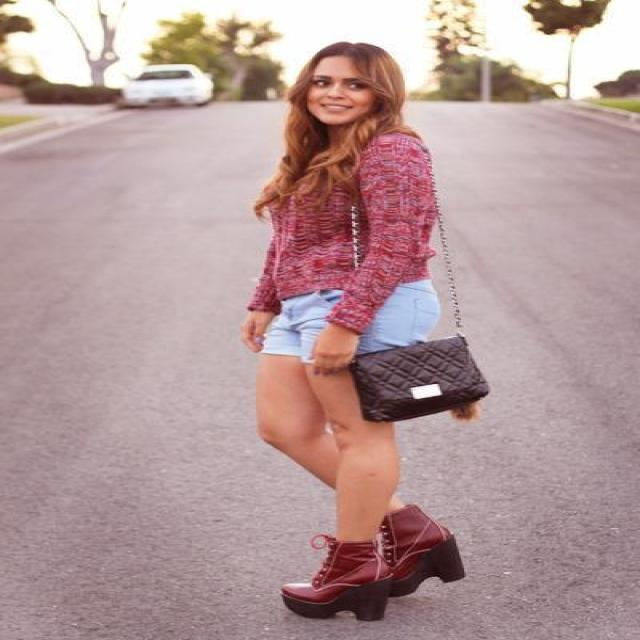bag: (341, 333, 488, 421)
shirt: (250, 115, 440, 335)
shoe: (282, 504, 464, 621)
shorts: (262, 280, 438, 362)
